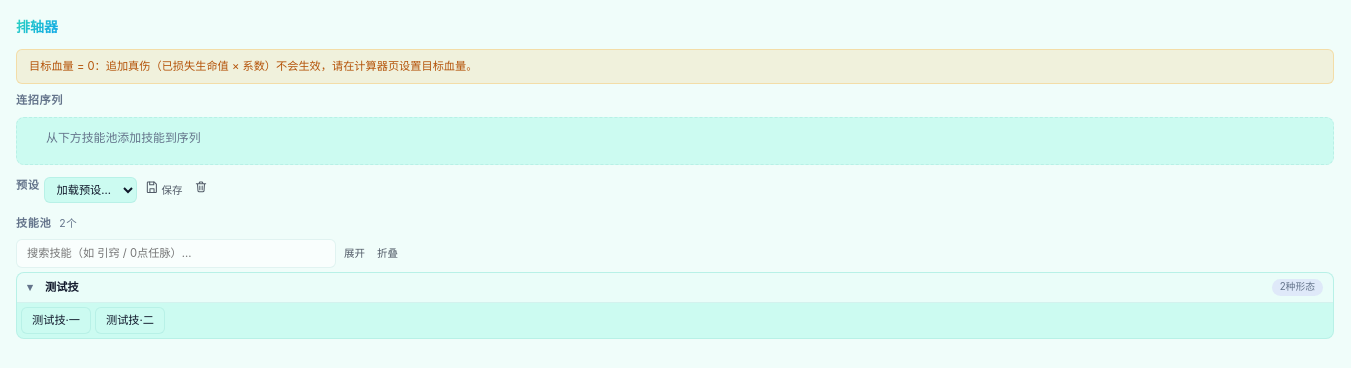
Test case: 加载预设只更新当前草稿，修改后不自动写回预设
The image size is (1351, 368).
Select "已保存" in the dropdown at (90, 190), box top-left (44, 177), bottom-right (136, 203)
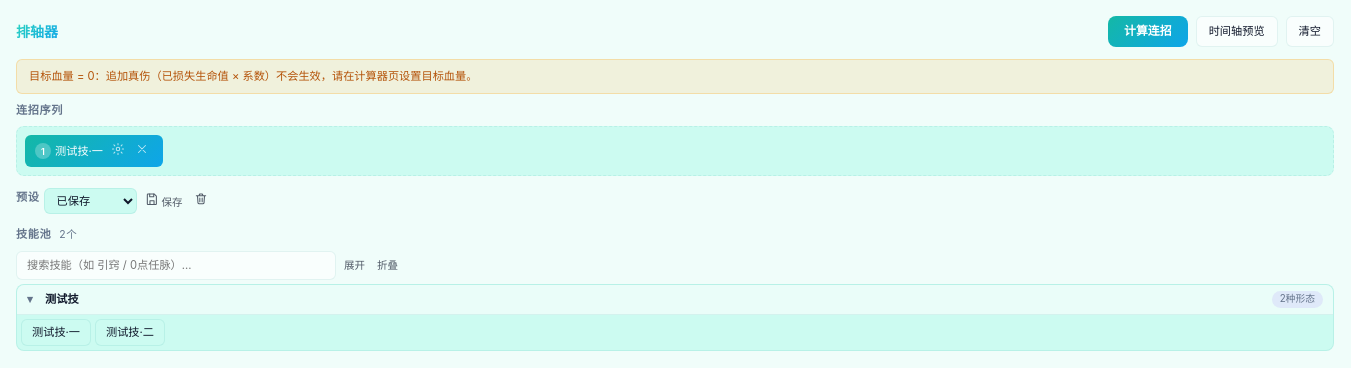
Expected: the button "清空" is shown
Click the button "清空" at (1310, 31), box top-left (1286, 16), bottom-right (1334, 47)
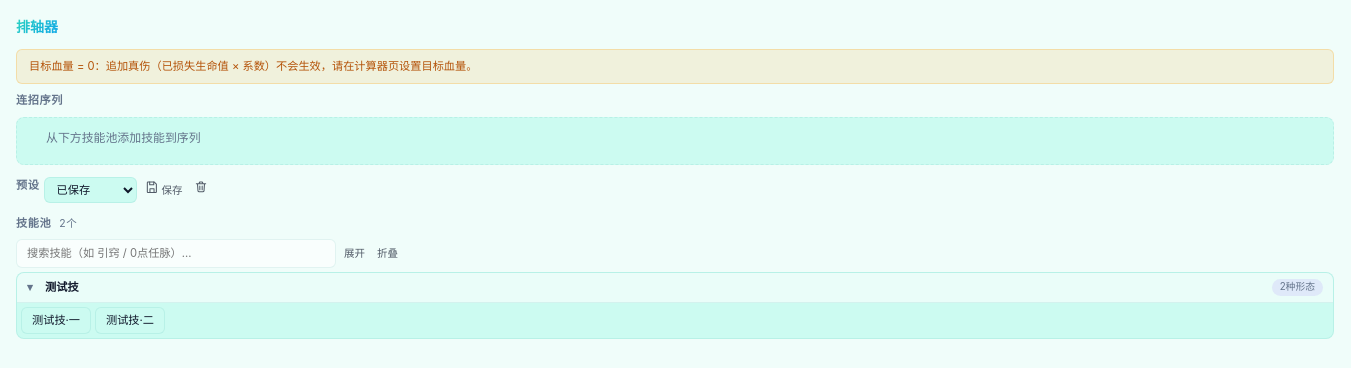
Expected: the dropdown shows "已保存", top-left (44, 177), bottom-right (136, 203)
Expected: the text "从下方技能池添加技能" is shown, top-left (46, 130), bottom-right (201, 145)
